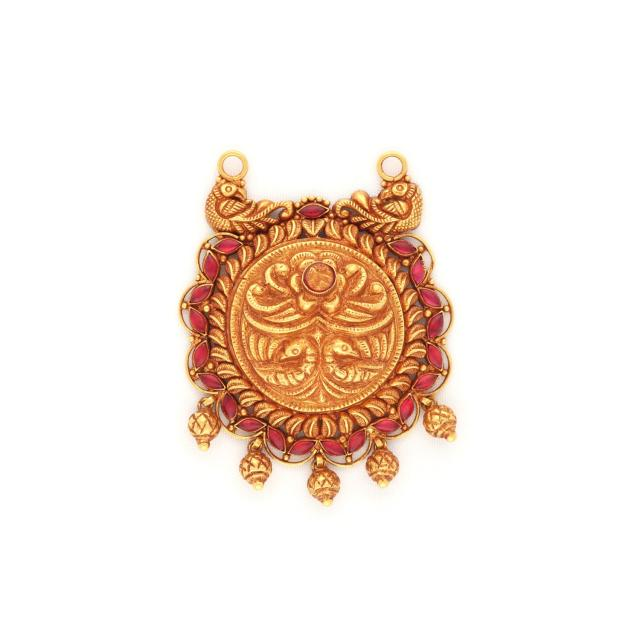missing gem: (303, 262, 335, 292)
